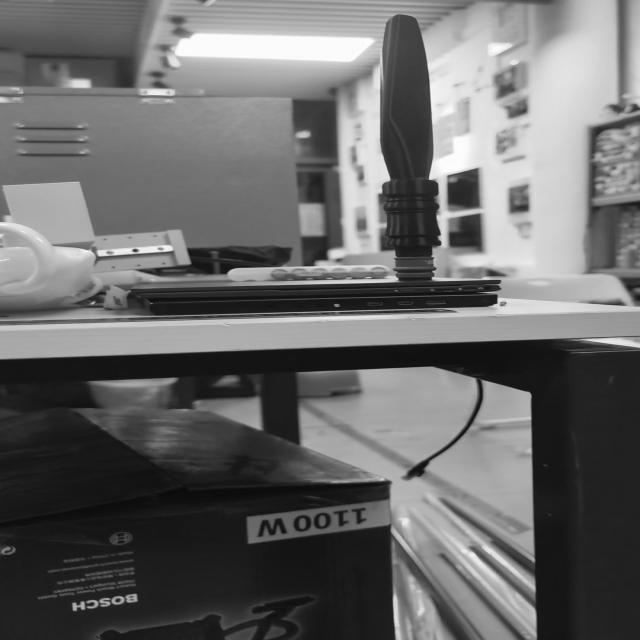base: (387, 252, 445, 288)
